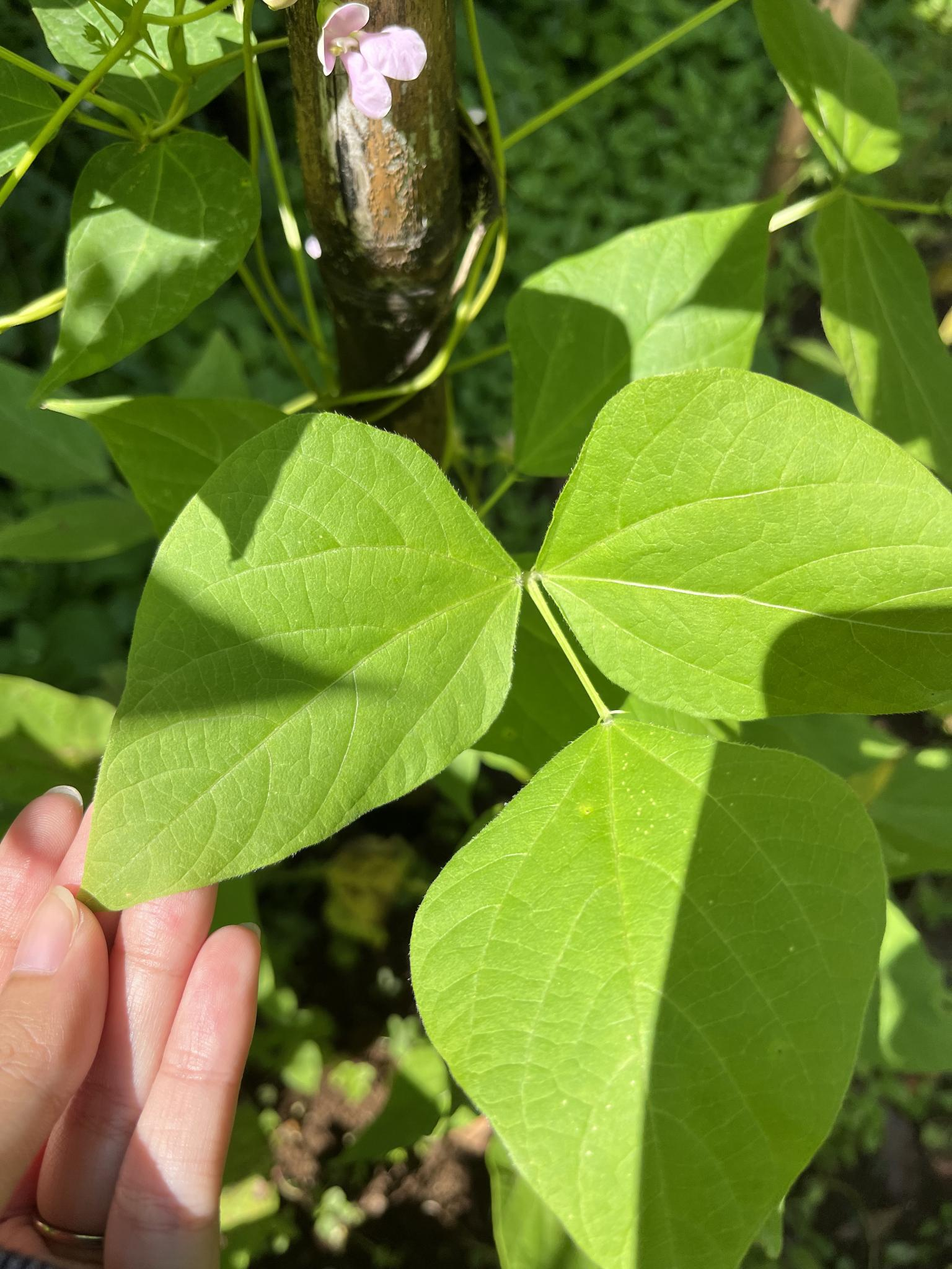sehat: (377, 731, 880, 1269), (85, 402, 555, 901)
